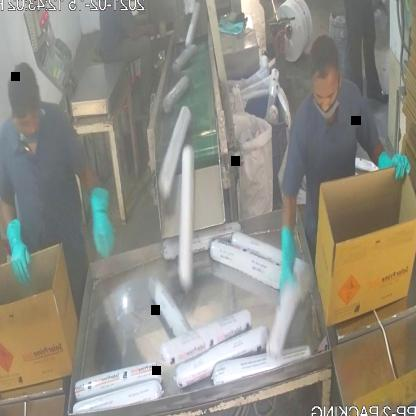glove: (82, 171, 125, 271), (7, 203, 40, 291), (272, 226, 312, 298), (378, 142, 416, 182)
